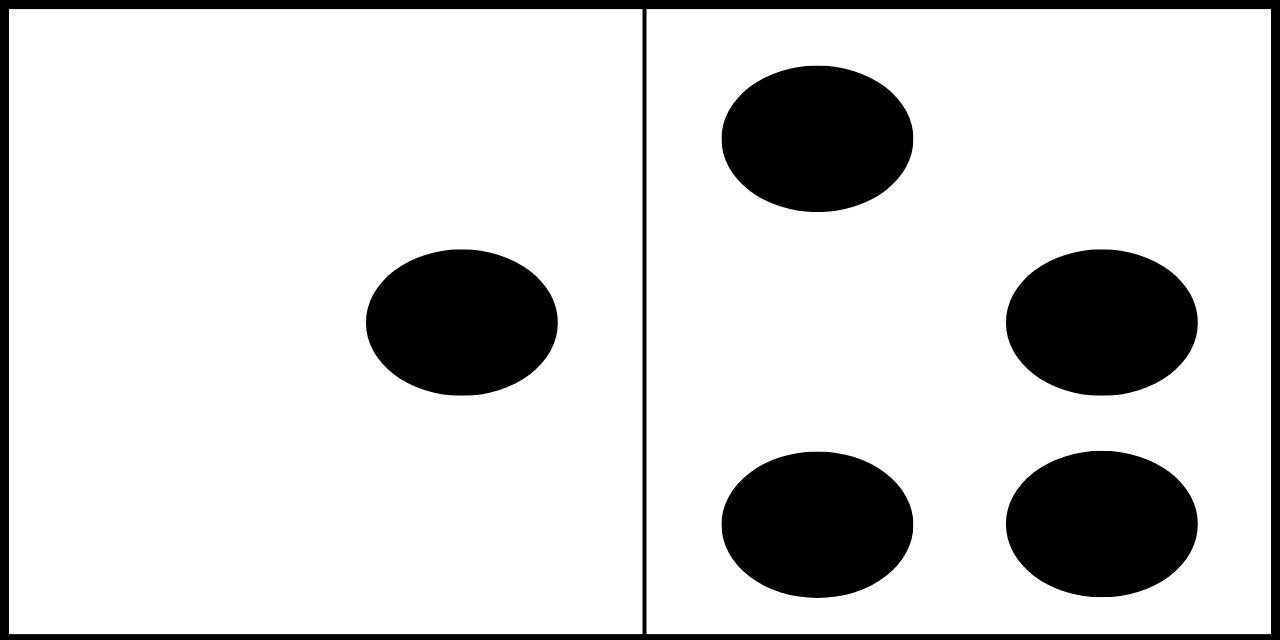dot_5: (89, 60, 561, 600)
salita: (720, 63, 1199, 600)
